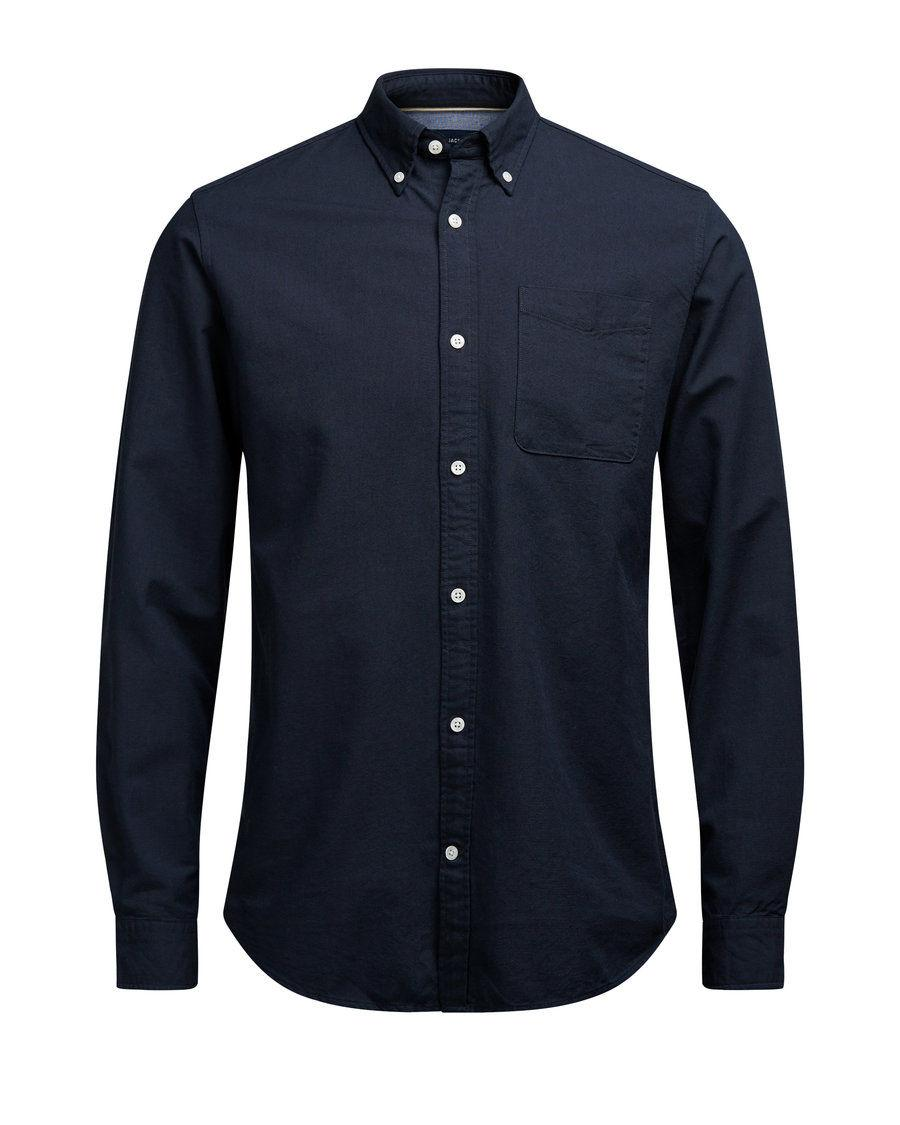teeshirt: (90, 62, 826, 1046)
